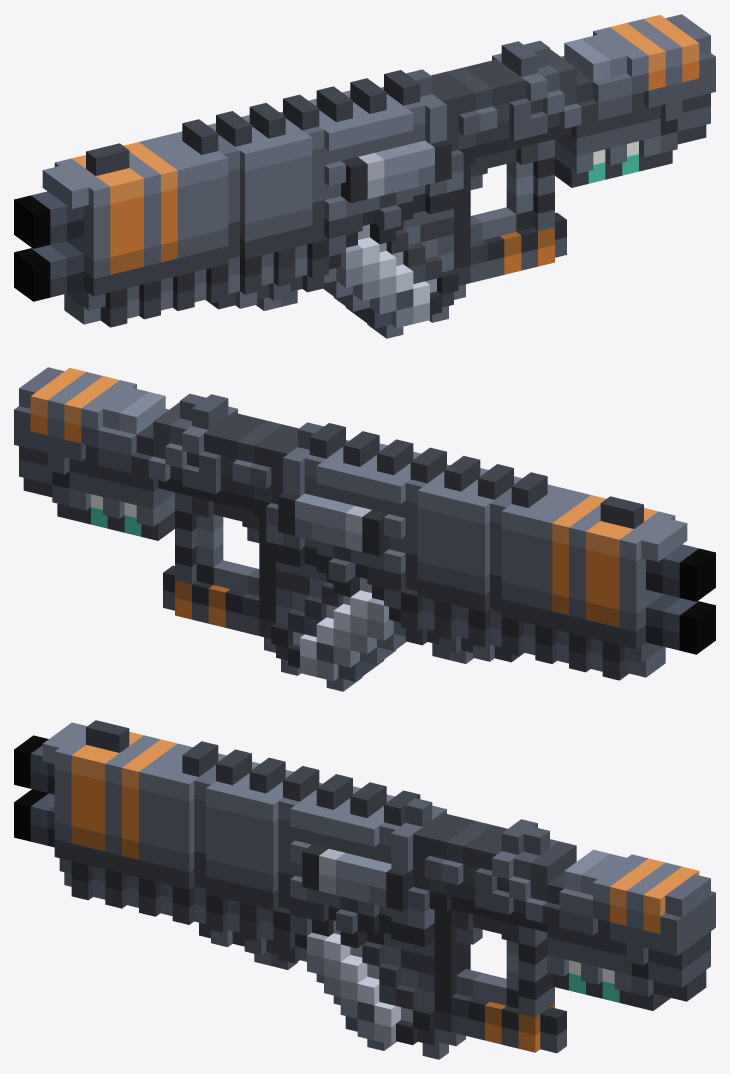
The model's file is Blaster_RA1_Neoskizzle.obj.
The picture shows the model from 3 angles, top to bottom: view 1: azimuth 30°, elevation 25°; view 2: azimuth 150°, elevation 25°; view 3: azimuth 330°, elevation 25°; orthographic projection.
Bounding box in the file's own units: 40 × 14 × 5.
